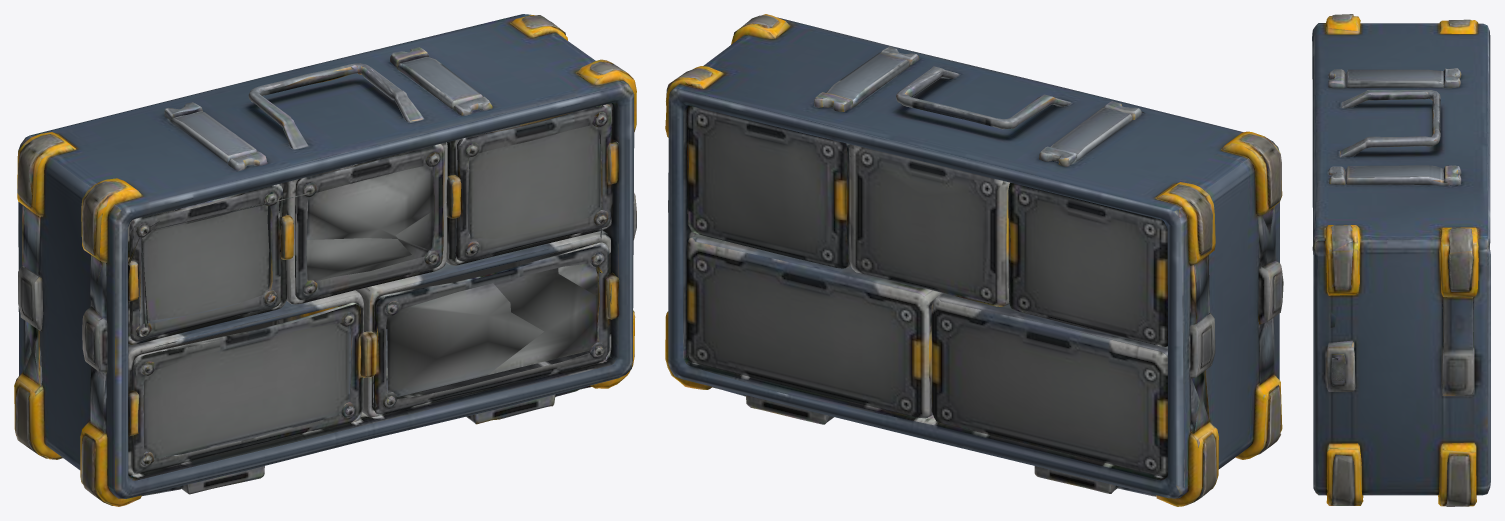
The model's file is Bomb.glb.
3 views of the same model, side by side, from view 1: azimuth 30°, elevation 25°; view 2: azimuth 150°, elevation 25°; view 3: azimuth 270°, elevation 25° (orthographic). The views are drawn at different scales.
Size of the model in its own units: 1 by 0.5801 by 0.3262.
Materials: 1 (1 with a texture image).
